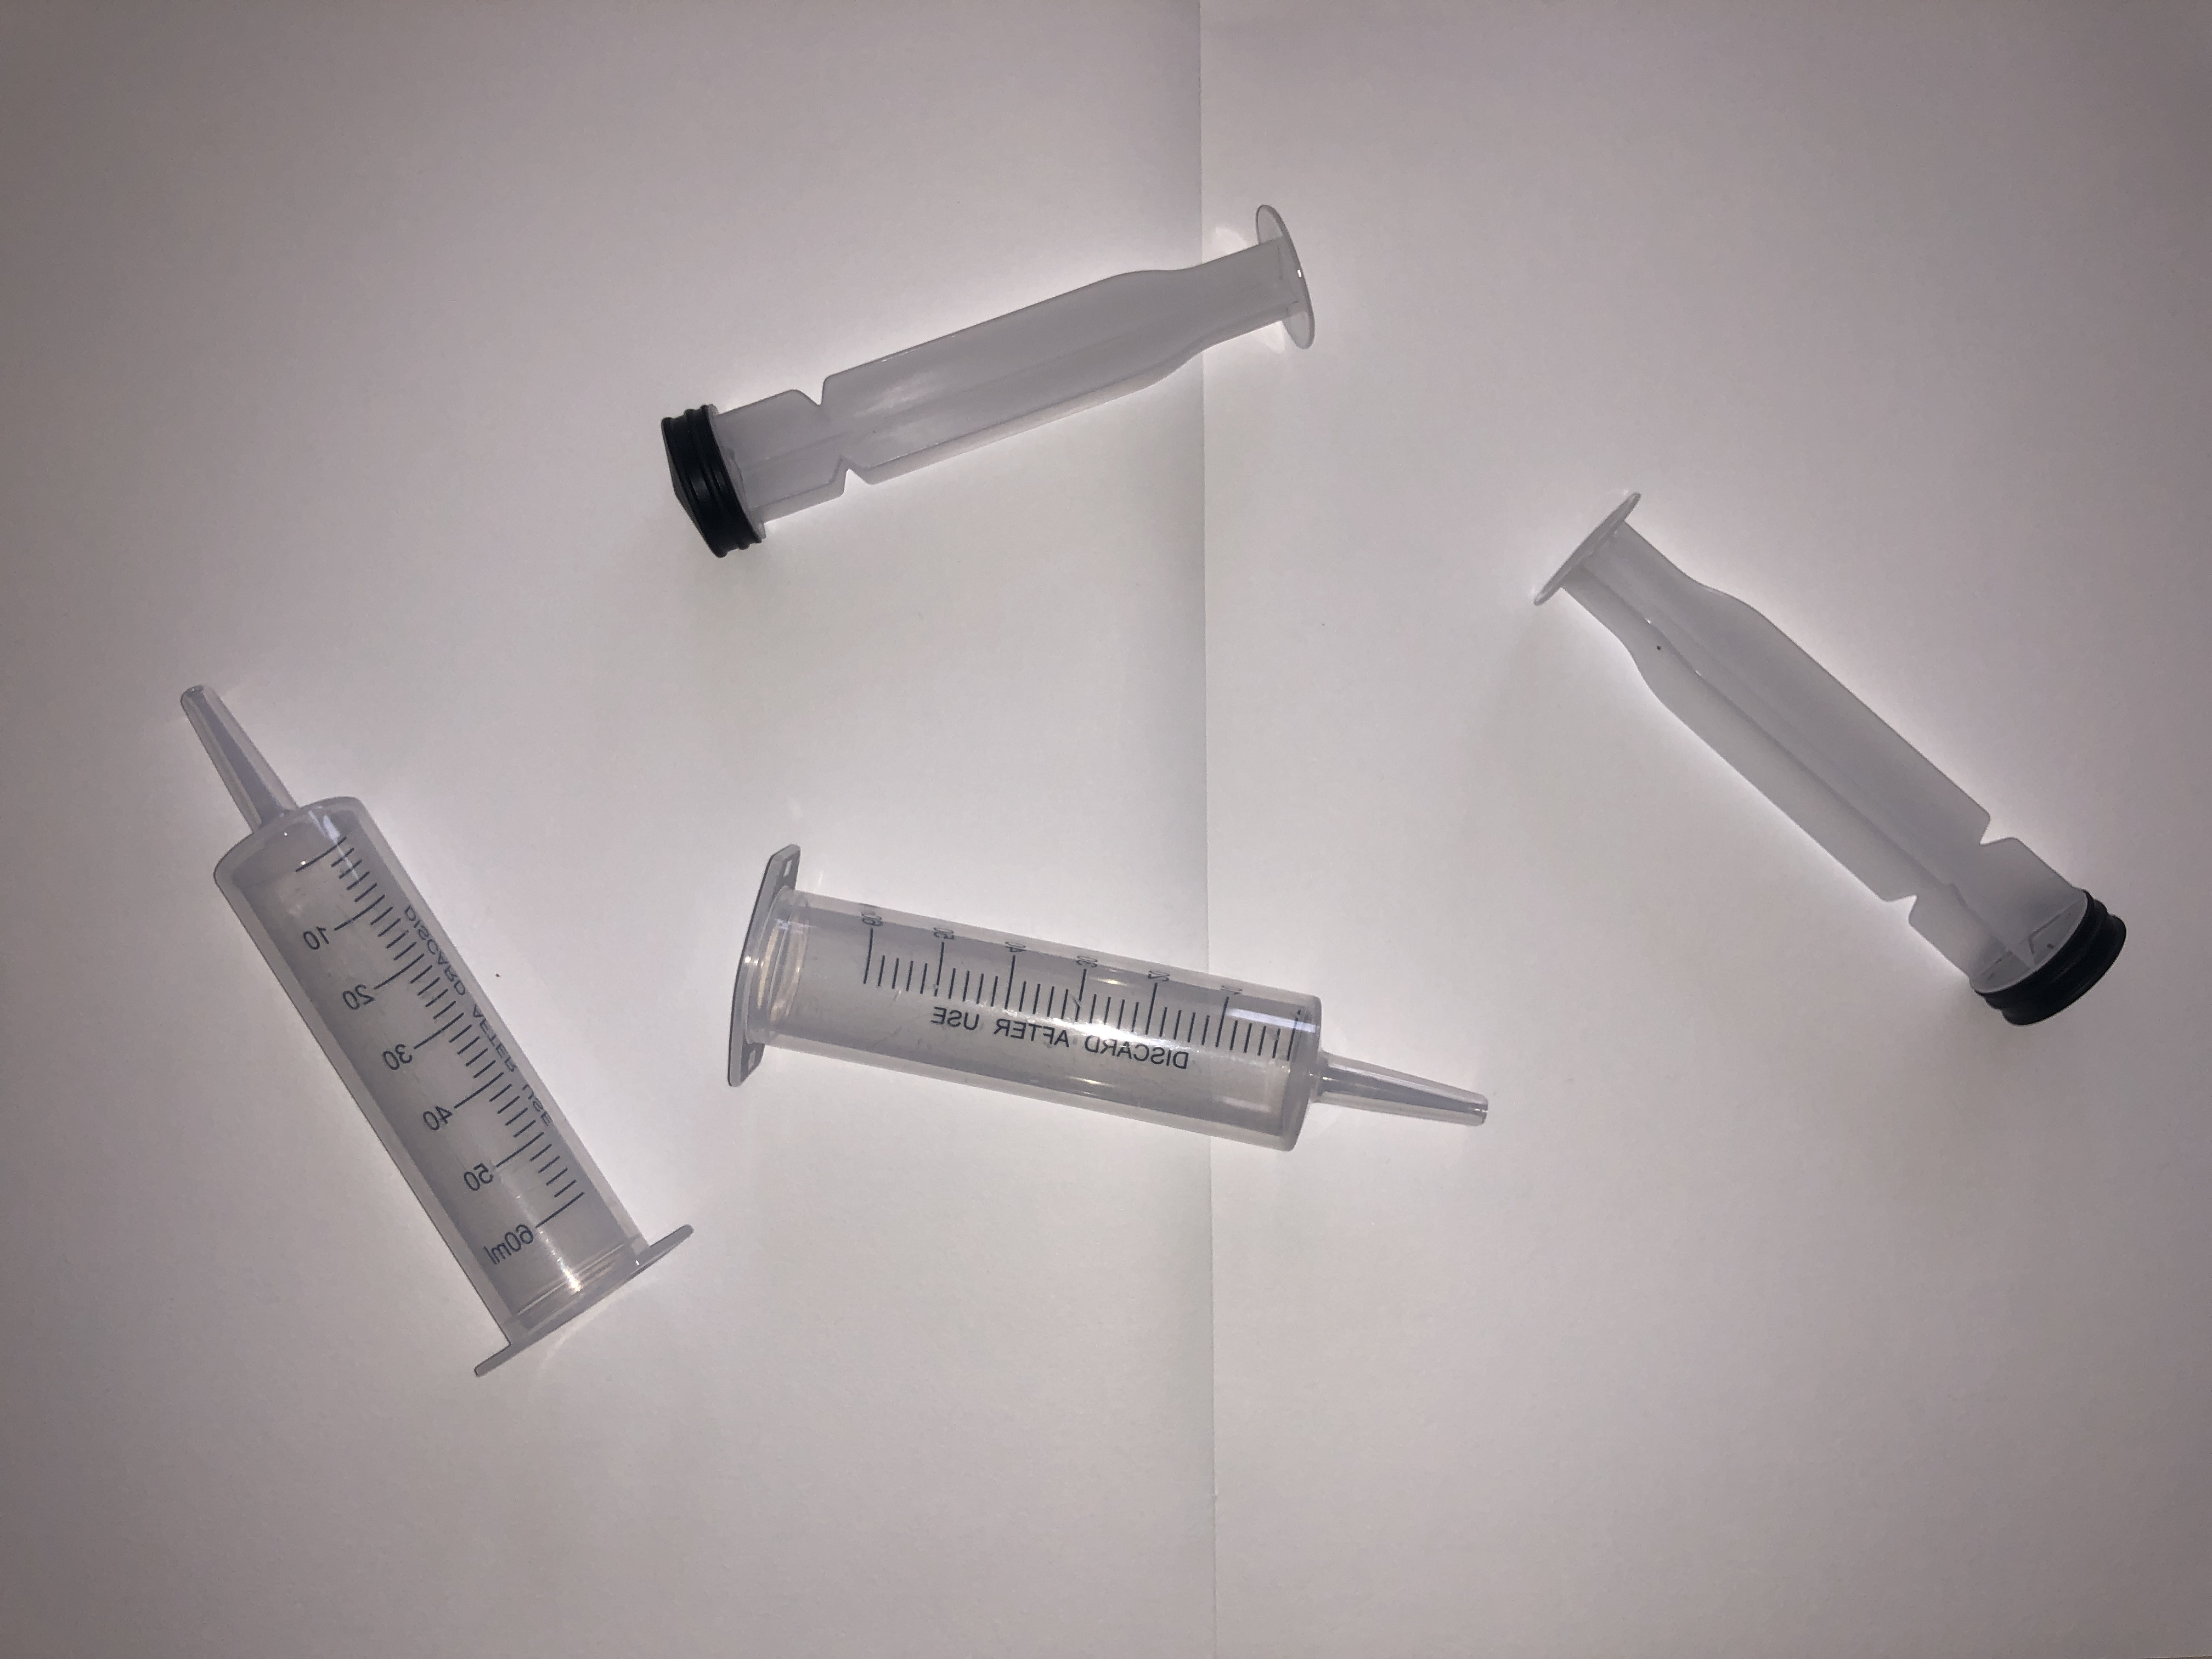plunger: (1529, 484, 2134, 1026), (653, 195, 1332, 559)
syringe: (171, 681, 695, 1382), (723, 840, 1489, 1152)
